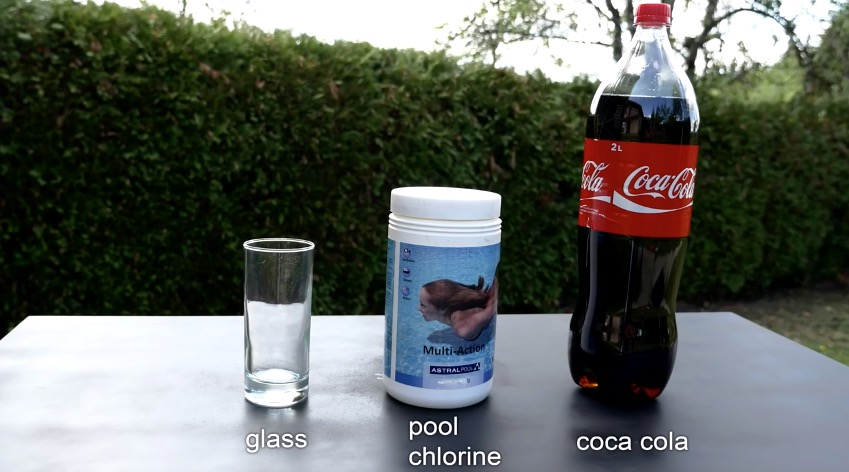coke: (586, 8, 696, 411)
